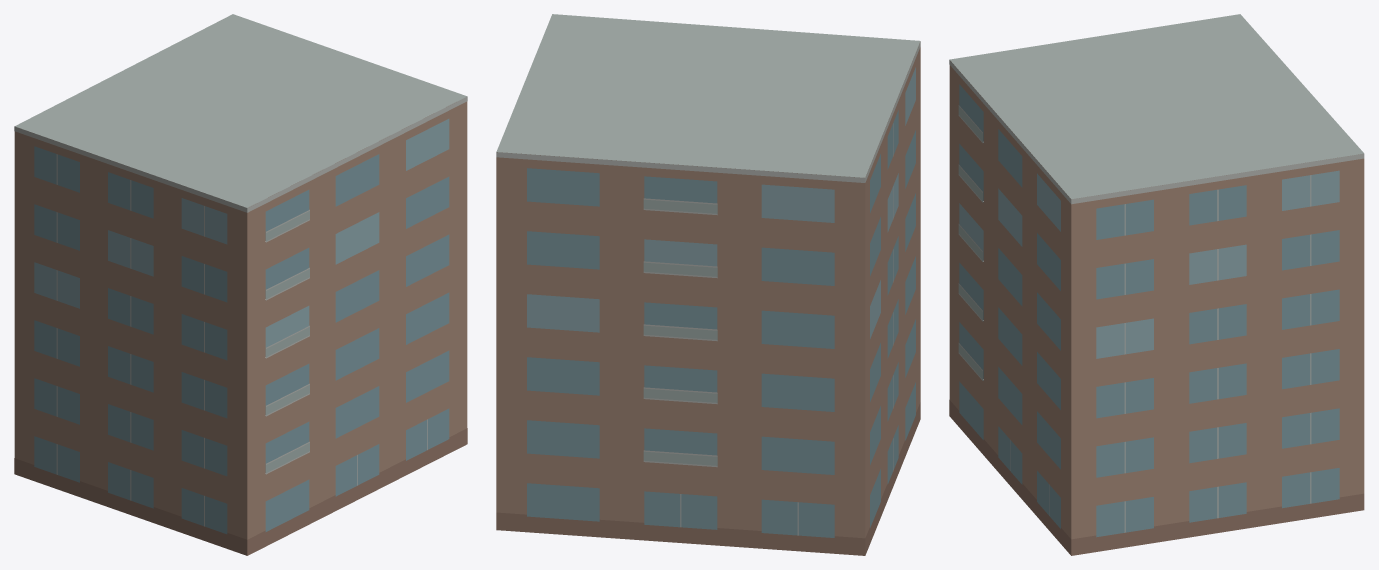
The model's file is survey-upis-32844767.glb.
3 renders of one model, left to right at view 1: azimuth 30°, elevation 25°; view 2: azimuth 150°, elevation 25°; view 3: azimuth 270°, elevation 25°, orthographic. The views are drawn at different scales.
Visible parts, largest first — view 1: survey-upis-32844767.tmp; view 2: survey-upis-32844767.tmp; view 3: survey-upis-32844767.tmp.
Boxes of the visible parts, x1,y1,x2,y2 form: survey-upis-32844767.tmp: (14, 14, 467, 555); survey-upis-32844767.tmp: (496, 14, 920, 555); survey-upis-32844767.tmp: (949, 14, 1364, 555).
Size of the model in its own units: 19.51 by 17.5 by 18.46.
